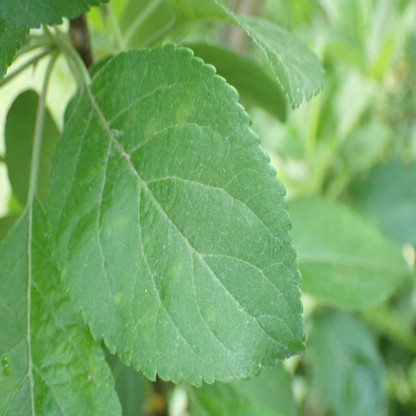scab: (68, 333, 98, 397), (143, 117, 158, 140), (175, 104, 188, 130), (165, 265, 183, 282), (111, 213, 126, 230), (205, 308, 217, 324), (112, 292, 122, 303)
